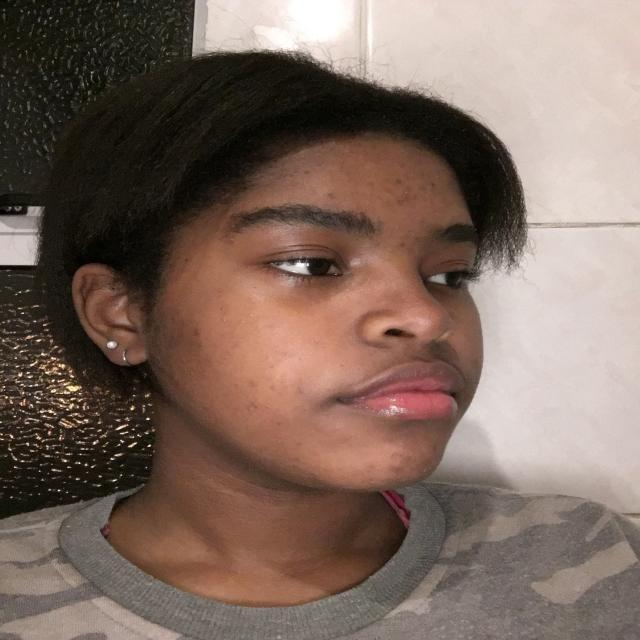Acne: (394, 176, 431, 204), (232, 405, 266, 432), (182, 317, 212, 347), (286, 165, 326, 187), (236, 366, 268, 388), (388, 458, 417, 479), (396, 234, 426, 254)
